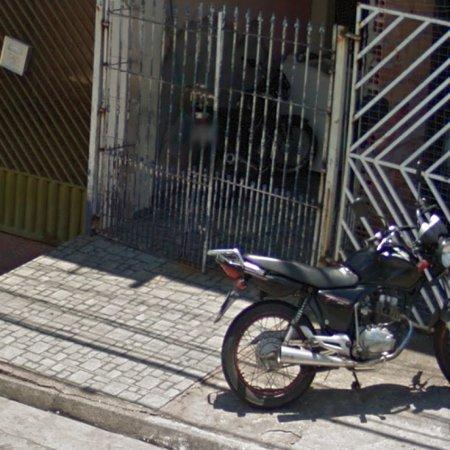motorcycles: (208, 207, 450, 409)
